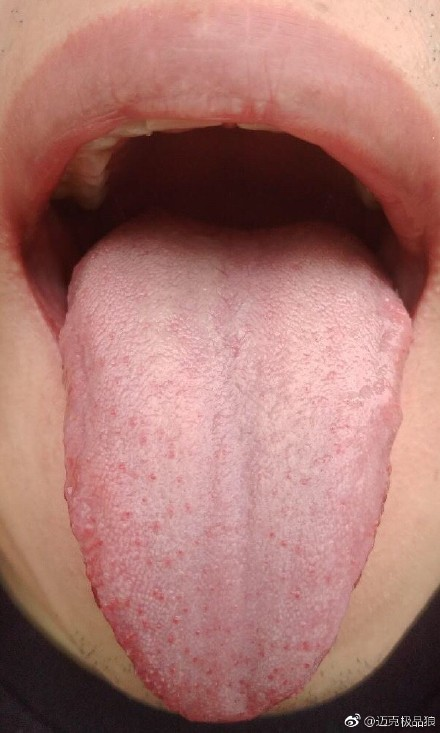baitaishe: (58, 212, 415, 723)
hongdianshe: (118, 504, 136, 525), (146, 468, 160, 484), (170, 611, 181, 626), (292, 588, 303, 602), (263, 670, 275, 682), (302, 660, 311, 672)
